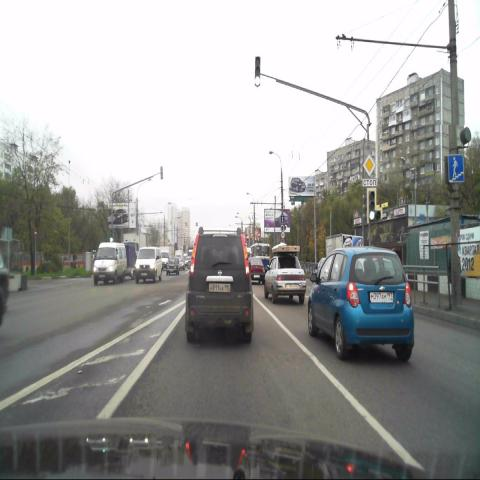6_6: (448, 153, 464, 181)
